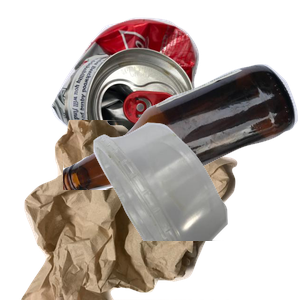glass: (63, 62, 300, 242)
metal: (48, 15, 251, 175)
plastic: (91, 120, 300, 300)
trash: (19, 120, 249, 300)
